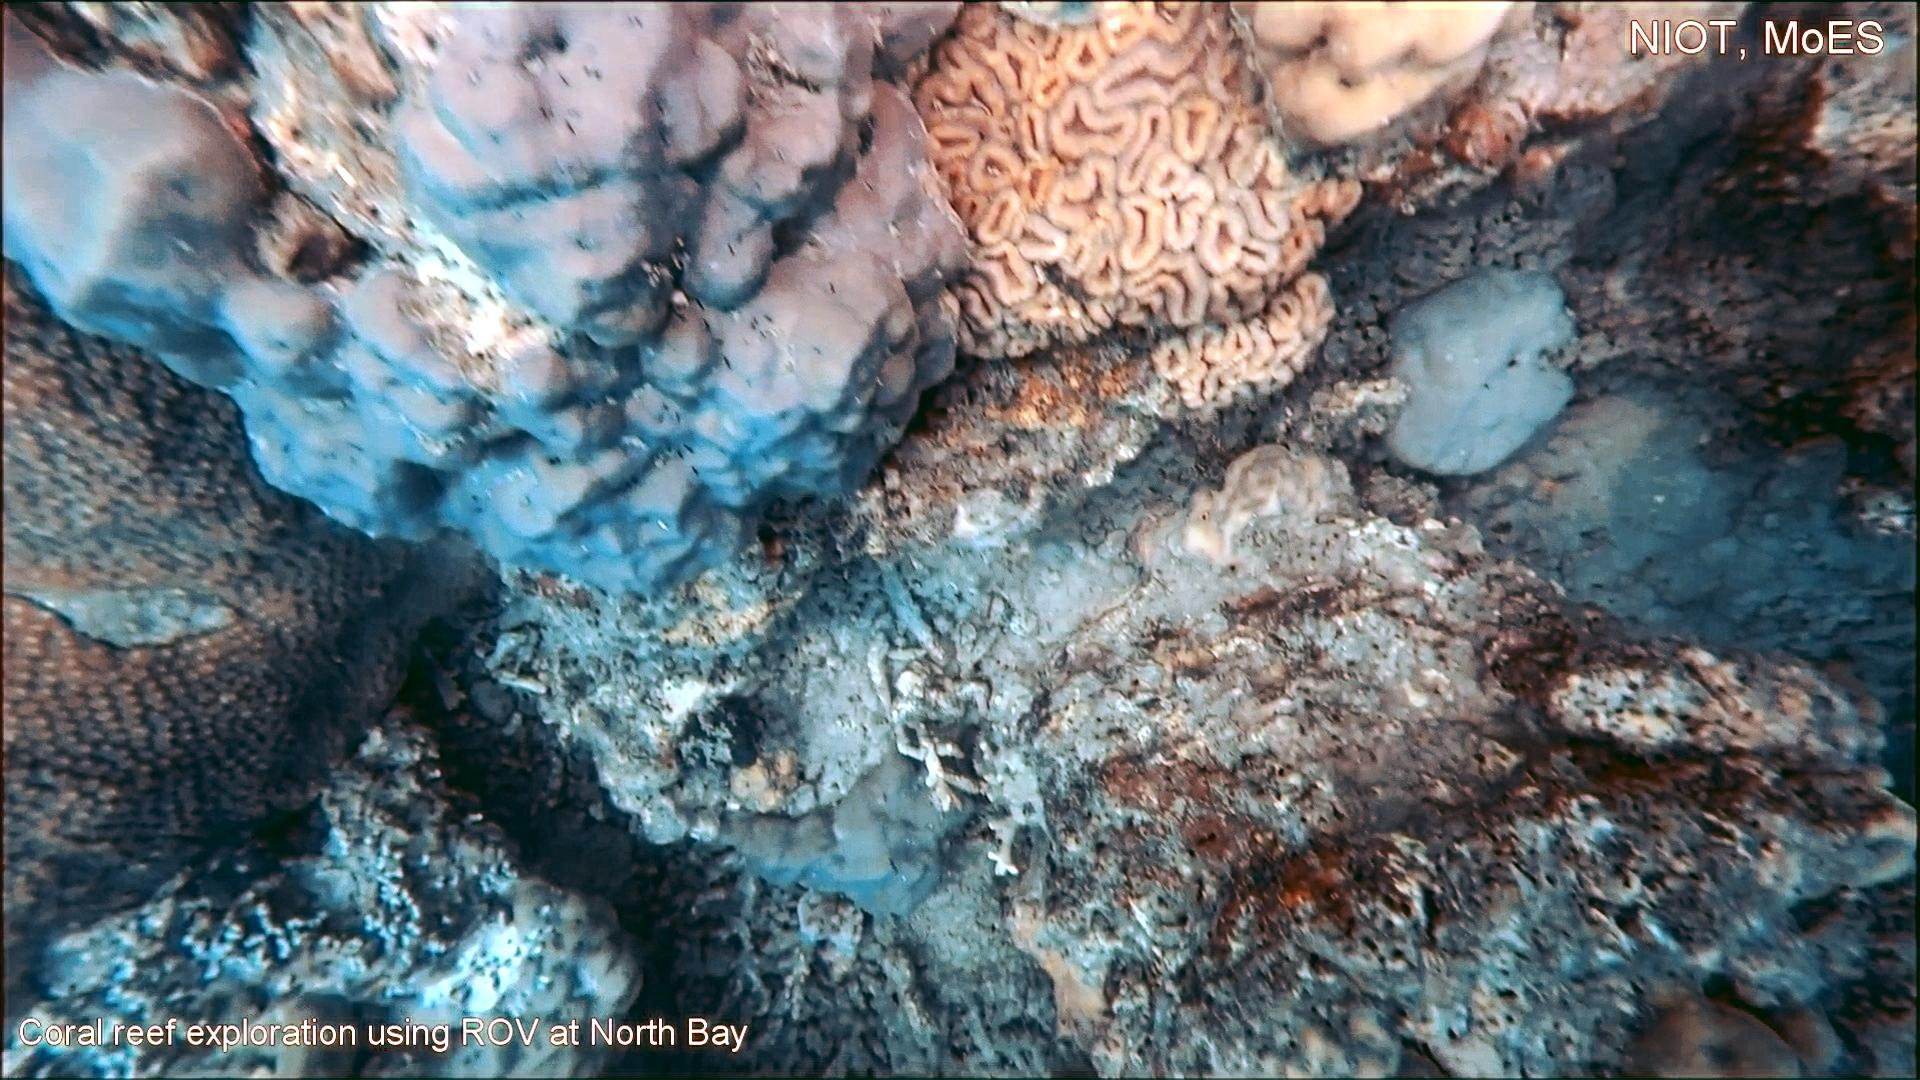Lobophyllia: (893, 0, 1371, 433)
